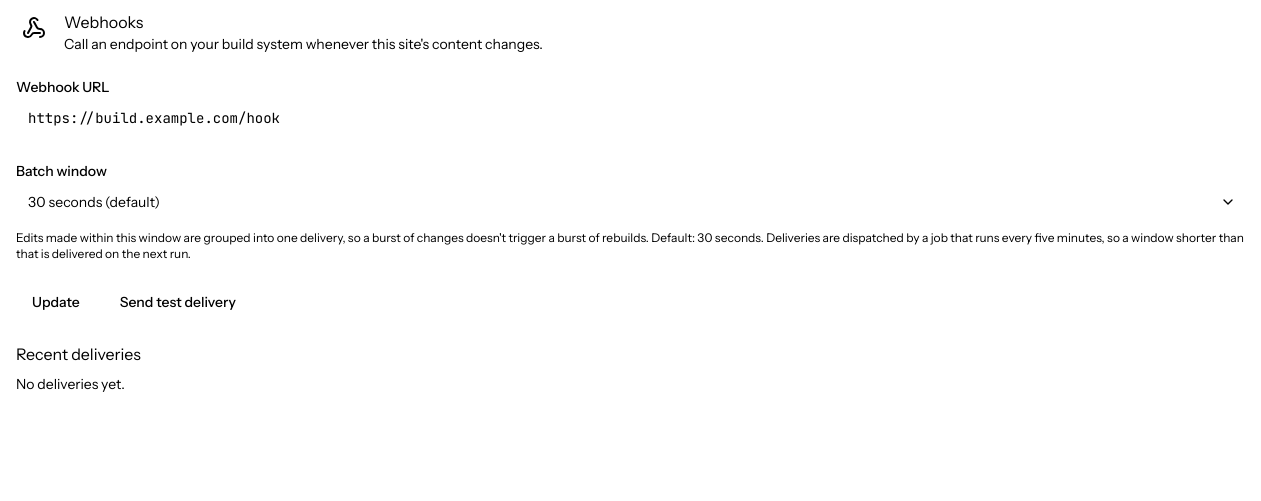
Test: WebhooksPanel › manual test delivery › reports a failed test inline, with the reason
Click the button "Send test delivery": coordinates (178, 302) left=104, top=282, right=252, bottom=322
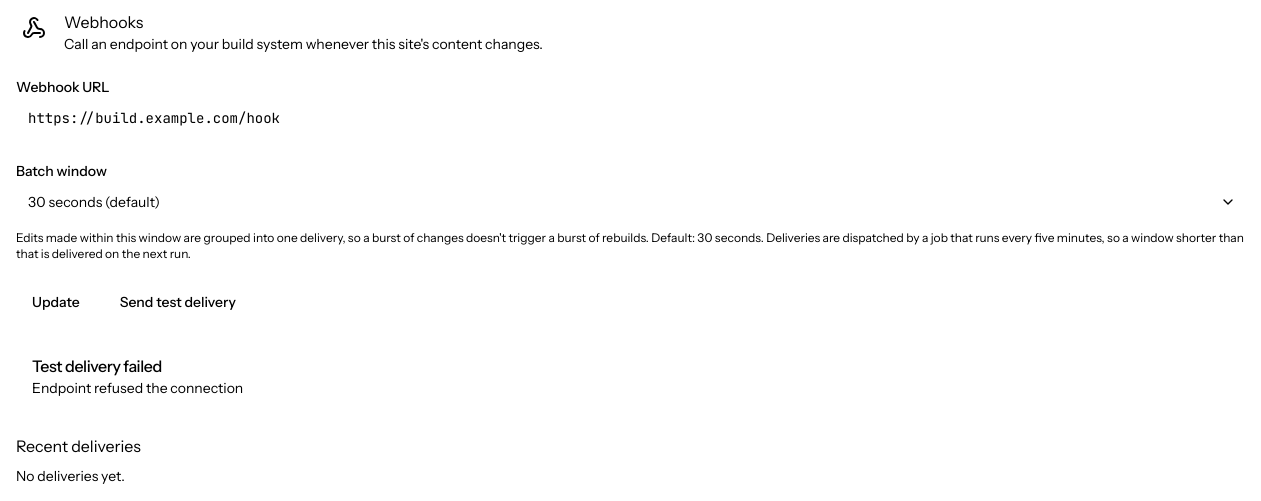
Check: the text "Endpoint refused the connection" is shown, box left=32, top=379, right=243, bottom=397
